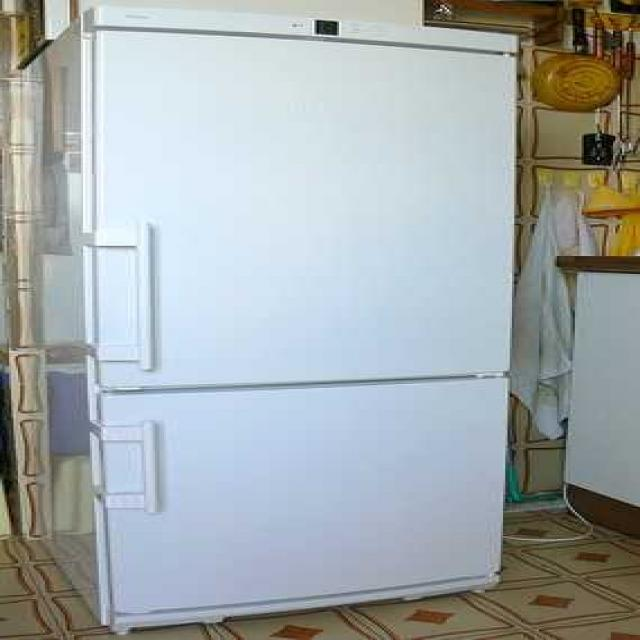refrigerator: (77, 5, 520, 632)
